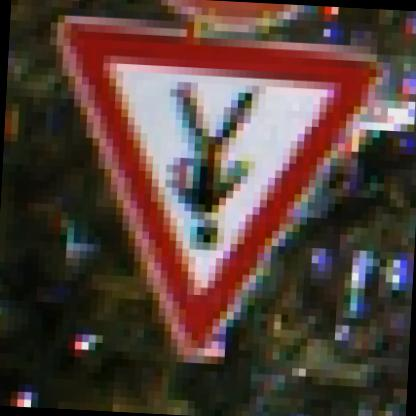crosswalk: (26, 26, 392, 356)
